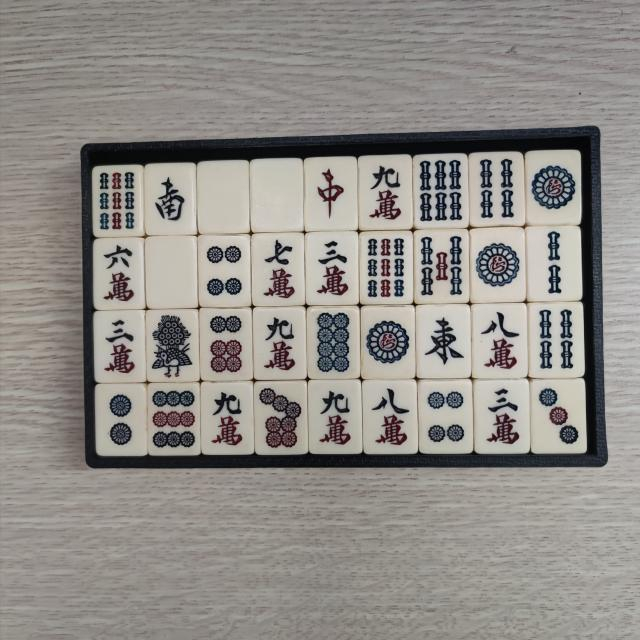hdr: (308, 161, 352, 227)
hdw: (204, 164, 247, 227), (256, 166, 300, 227), (152, 242, 194, 304)
hwe: (422, 310, 468, 374)
hws: (151, 167, 193, 230)
sb1: (152, 313, 198, 381)
sb2: (534, 230, 578, 300)
sb4: (474, 156, 518, 222), (536, 308, 578, 374)
sb5: (418, 234, 466, 300)
sb6: (417, 159, 462, 225)
sb9: (365, 236, 408, 302), (98, 168, 138, 232)
sc3: (480, 384, 524, 450), (312, 236, 356, 301), (100, 316, 142, 380)
sc6: (98, 243, 138, 306)
sc7: (258, 236, 300, 300)
sc8: (476, 310, 523, 376), (366, 384, 412, 450)
sc9: (258, 313, 302, 377), (313, 385, 356, 450), (364, 158, 406, 224), (207, 388, 249, 451)
sd1: (474, 234, 522, 300), (531, 155, 579, 220), (365, 312, 412, 376)
sd2: (100, 390, 142, 453)
sd3: (537, 386, 583, 450)
sd4: (424, 386, 470, 450), (204, 240, 247, 302)
sd6: (206, 314, 247, 378)
sd7: (258, 387, 305, 452)
sd8: (314, 309, 356, 374)
sd9: (150, 390, 195, 453)
